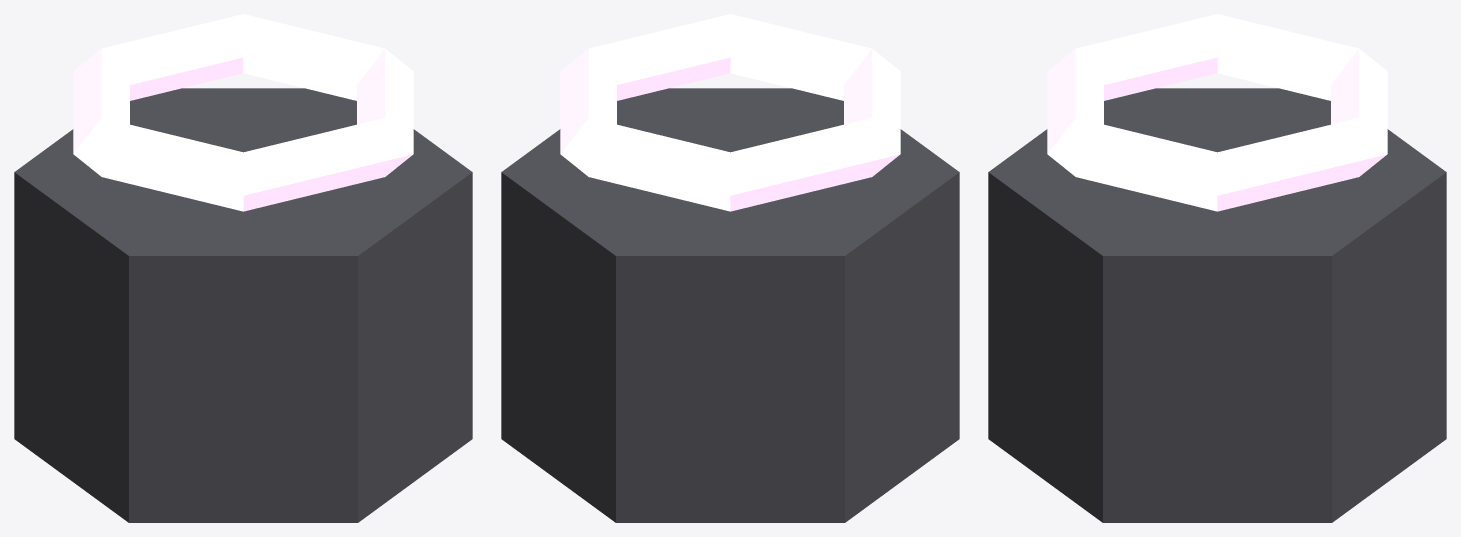
The model's file is tower_chain_lod1.glb.
The picture shows the model from 3 angles, left to right: view 1: azimuth 30°, elevation 25°; view 2: azimuth 150°, elevation 25°; view 3: azimuth 270°, elevation 25°; orthographic projection.
Visible parts, largest first — view 1: tower_chain_lod1; view 2: tower_chain_lod1; view 3: tower_chain_lod1.
Part boxes in pixels (x1,y1,x2,y2): tower_chain_lod1: (14, 14, 472, 522); tower_chain_lod1: (501, 14, 959, 522); tower_chain_lod1: (988, 14, 1446, 522).
Bounding box in the file's own units: 0.6062 × 0.6 × 0.7.
